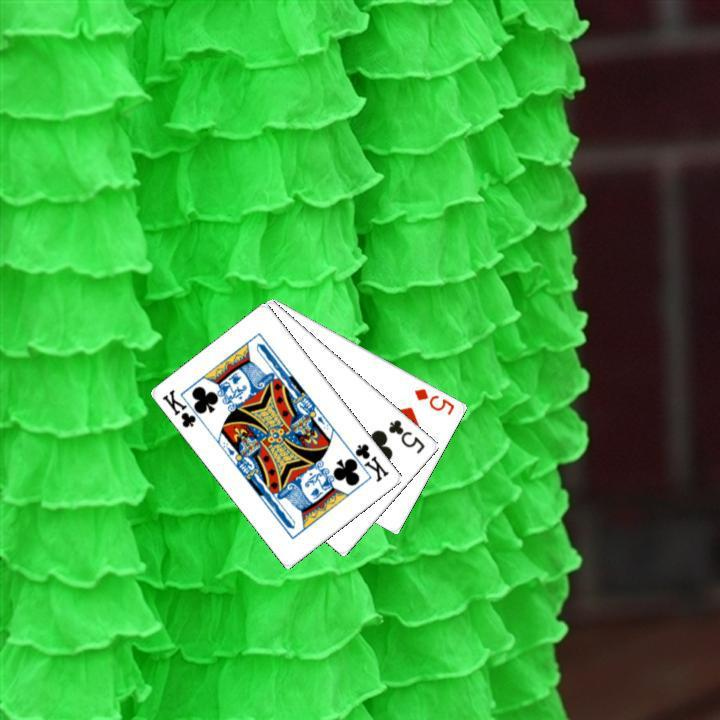5: (384, 415, 428, 456), (410, 384, 457, 417)
K: (158, 385, 207, 430), (343, 439, 391, 484)
